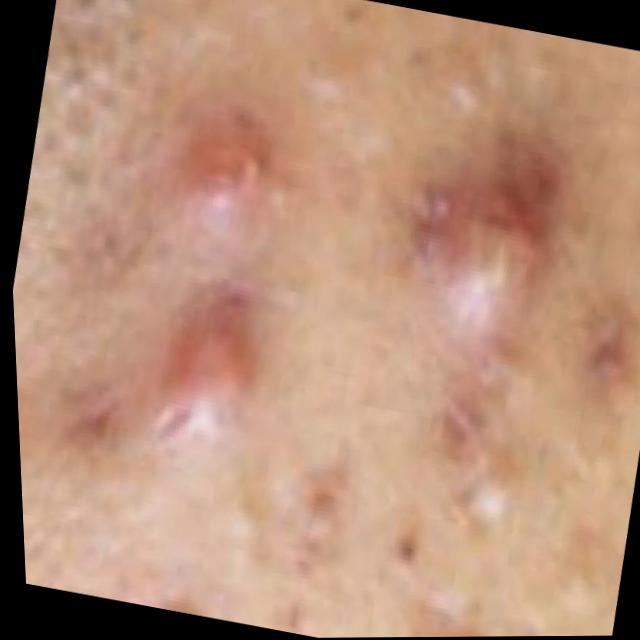nodule: (400, 135, 588, 423)
